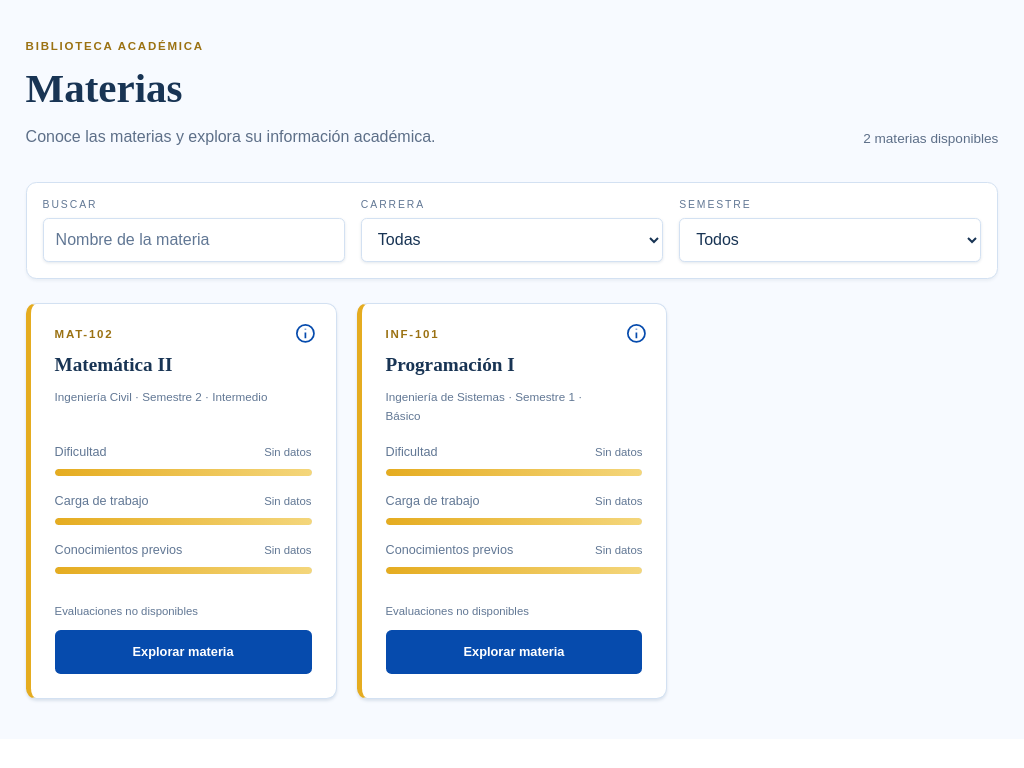
Test: HU-04: visualizar información de una materia › abre la información de la materia elegida con una etiqueta accesible y sin confundir descripción con prerrequisitos
This screenshot has width=1024, height=768.
Click the button named "Ver información de la materia: Programación I".
click(636, 334)  # box 614,312 -> 658,356
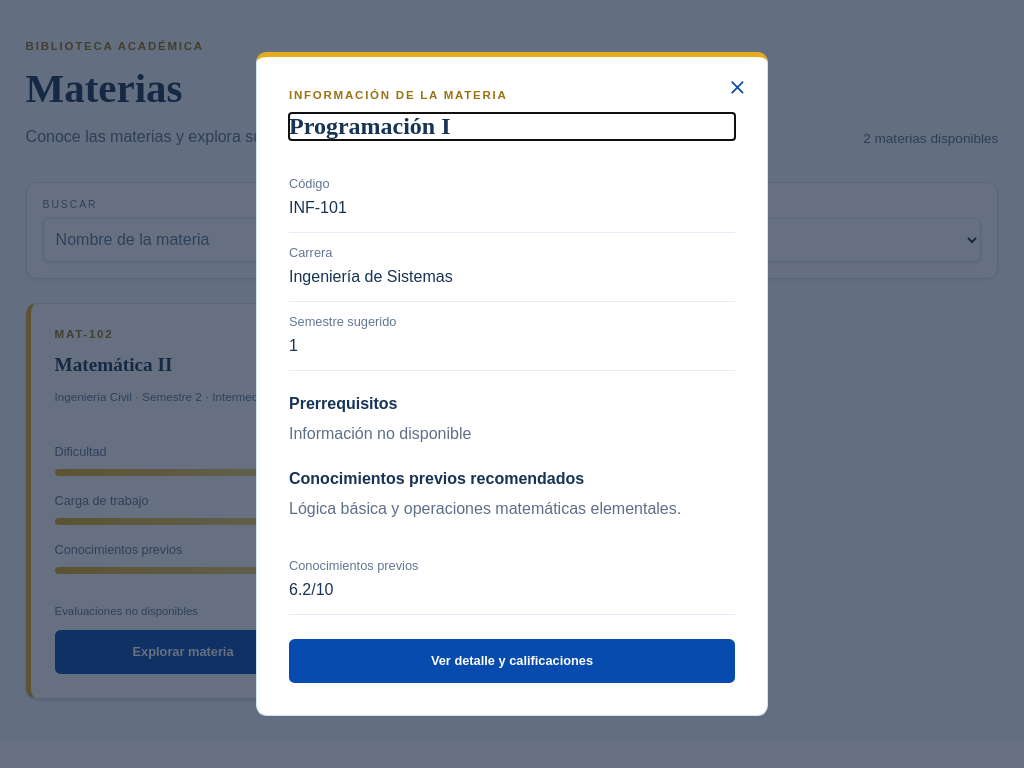
Now the dialog shows "INF-101", box 289,199 -> 347,216
Now the dialog shows "Ingeniería de Sistemas", box 289,268 -> 453,285
Now the heading "Prerrequisitos" is shown, box 289,395 -> 398,412
